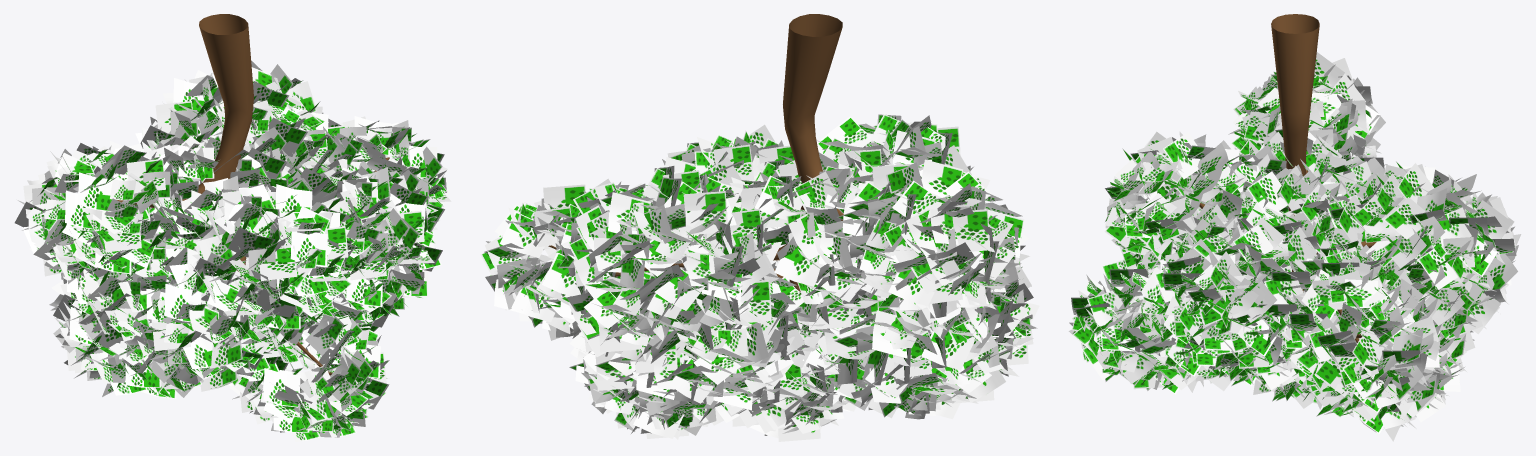
Rendered from featree.fbx.
3 views of the same model, side by side, from view 1: azimuth 30°, elevation 25°; view 2: azimuth 150°, elevation 25°; view 3: azimuth 270°, elevation 25° (orthographic). The views are drawn at different scales.
Visible parts, largest first — view 1: tweeweaves, RegularTree.003; view 2: tweeweaves, RegularTree.003; view 3: tweeweaves, RegularTree.003.
Boxes of the visible parts, x1=… form: tweeweaves: x1=14, y1=61, x2=451, y2=441; RegularTree.003: x1=117, y1=14, x2=389, y2=375; tweeweaves: x1=480, y1=114, x2=1039, y2=441; RegularTree.003: x1=548, y1=14, x2=889, y2=291; tweeweaves: x1=1068, y1=52, x2=1521, y2=441; RegularTree.003: x1=1199, y1=14, x2=1376, y2=342.
Size of the model in its own units: 521 by 415 by 464.
